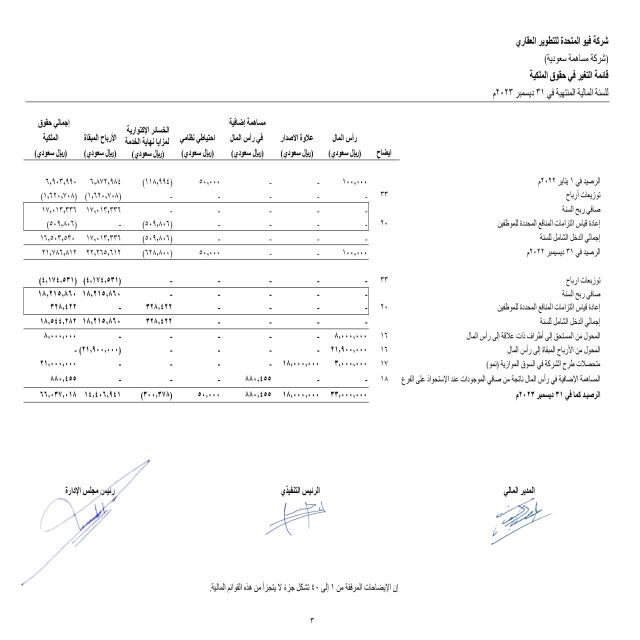financial_sheets: (524, 68, 610, 88)
table: (4, 94, 407, 435)
